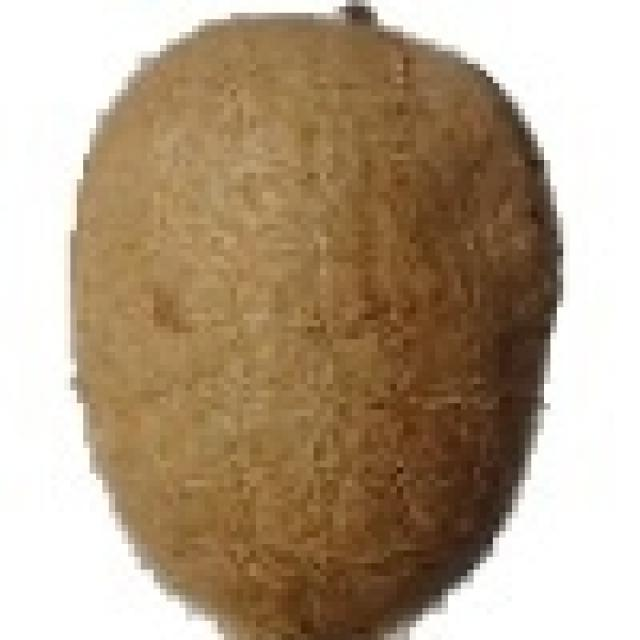kiwi: (70, 6, 544, 627)
